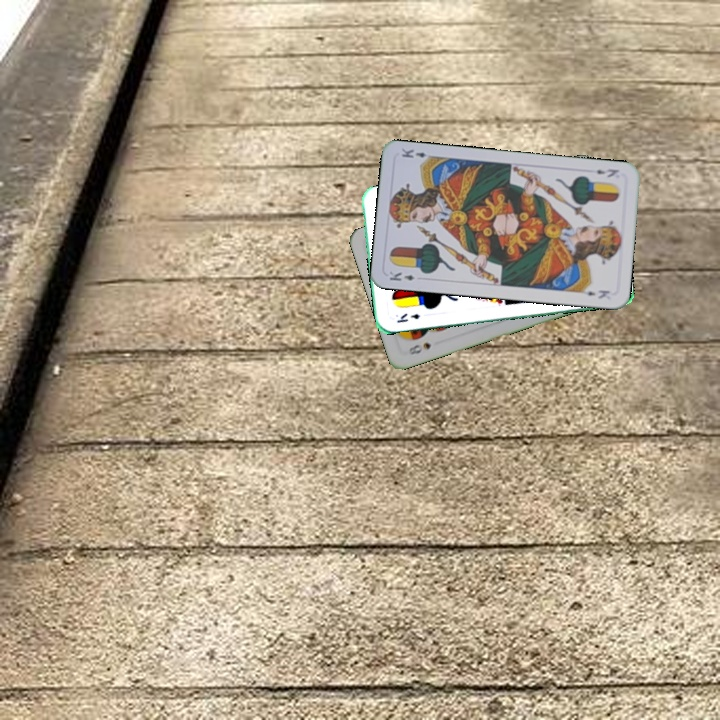EK: (385, 267, 417, 283), (393, 309, 422, 325), (592, 165, 621, 180)
S8: (405, 338, 434, 357)
